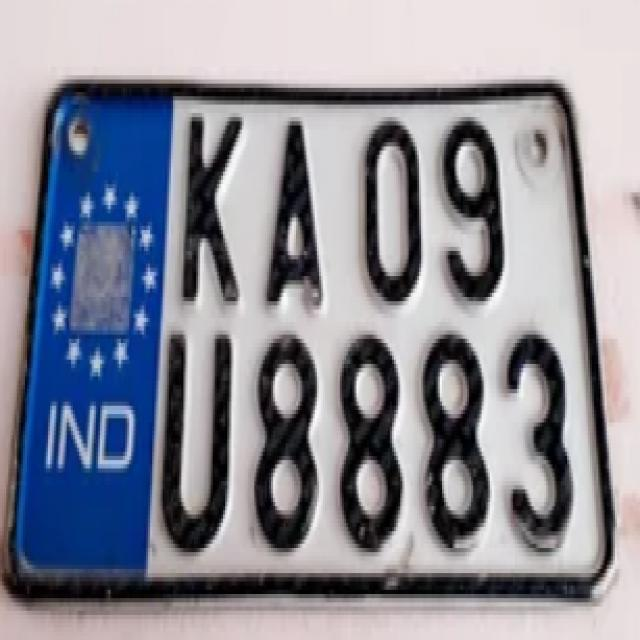0: (356, 105, 431, 317)
3: (499, 323, 586, 559)
8: (239, 323, 325, 561), (416, 322, 494, 559), (333, 331, 408, 553)
9: (435, 113, 516, 309)
A: (262, 105, 330, 312)
K: (176, 105, 254, 309)
U: (156, 320, 238, 565)
